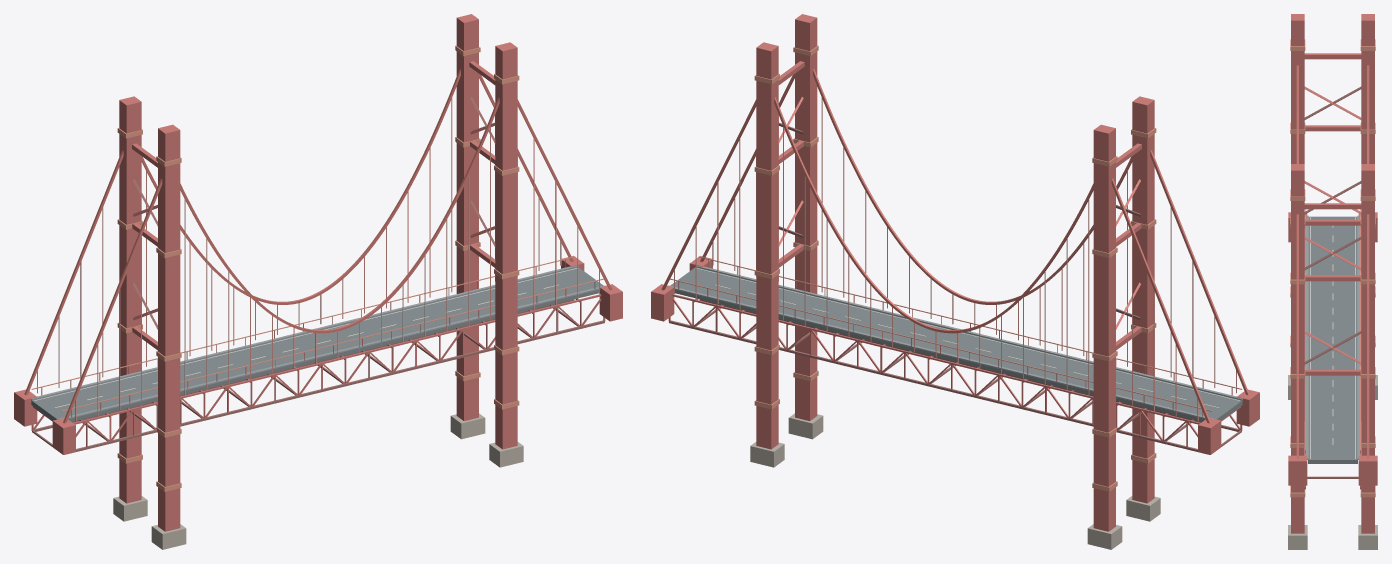
The model's file is 5-ponte-25-de-abril.glb.
The picture shows the model from 3 angles, left to right: view 1: azimuth 30°, elevation 25°; view 2: azimuth 150°, elevation 25°; view 3: azimuth 270°, elevation 25°; orthographic projection. The views are drawn at different scales.
Parts seen in each view (by area): view 1: vertical_red_bridge_main_shaft_steel_red, one_piece_paved_road_road_dark, main_cable_seated_in_both_end_anchors_steel_red, hangers_reconnected_to_modified_main_cable_steel_light, seated_edge_walkway_road_edge, grounded_red_tower_footing_masonry_dark, continuous_bottom_side_truss_chord_steel_shadow, integral_tower_stiffener_steel_light, anchored_red_cable_end_steel_red, connected_outer_road_guardrail_steel_light, seated_alternating_diagonal_truss_supports_steel_red, continuous_top_side_truss_chord_steel_red (+3 smaller); view 2: vertical_red_bridge_main_shaft_steel_red, one_piece_paved_road_road_dark, main_cable_seated_in_both_end_anchors_steel_red, hangers_reconnected_to_modified_main_cable_steel_light, seated_edge_walkway_road_edge, grounded_red_tower_footing_masonry_dark, continuous_bottom_side_truss_chord_steel_shadow, integral_tower_stiffener_steel_light, anchored_red_cable_end_steel_red, connected_outer_road_guardrail_steel_light, seated_alternating_diagonal_truss_supports_steel_red, continuous_top_side_truss_chord_steel_red (+3 smaller); view 3: vertical_red_bridge_main_shaft_steel_red, one_piece_paved_road_road_dark, portal_tower_transverse_beam_steel_red, main_cable_seated_in_both_end_anchors_steel_red, anchored_red_cable_end_steel_red, integral_tower_stiffener_steel_light, seated_edge_walkway_road_edge, grounded_red_tower_footing_masonry_dark, continuous_top_side_truss_chord_steel_red, tower_portal_cross_bracing_steel_shadow, tower_portal_cross_bracing_steel_red, seated_outer_white_edge_line_road_marking_white (+3 smaller).
Boxes of the visible parts, box(x1,y1,x2,y2) form: vertical_red_bridge_main_shaft_steel_red: box(119, 14, 517, 531); one_piece_paved_road_road_dark: box(31, 267, 603, 421); main_cable_seated_in_both_end_anchors_steel_red: box(24, 69, 612, 423); hangers_reconnected_to_modified_main_cable_steel_light: box(37, 98, 599, 421); seated_edge_walkway_road_edge: box(31, 265, 604, 419); grounded_red_tower_footing_masonry_dark: box(113, 413, 523, 549); continuous_bottom_side_truss_chord_steel_shadow: box(33, 299, 604, 454); integral_tower_stiffener_steel_light: box(117, 45, 519, 491); anchored_red_cable_end_steel_red: box(14, 256, 622, 454); connected_outer_road_guardrail_steel_light: box(31, 256, 603, 411); seated_alternating_diagonal_truss_supports_steel_red: box(33, 298, 601, 441); continuous_top_side_truss_chord_steel_red: box(73, 294, 601, 424); vertical_red_bridge_main_shaft_steel_red: box(756, 14, 1154, 531); one_piece_paved_road_road_dark: box(670, 267, 1242, 421); main_cable_seated_in_both_end_anchors_steel_red: box(661, 69, 1249, 423); hangers_reconnected_to_modified_main_cable_steel_light: box(674, 98, 1236, 421); seated_edge_walkway_road_edge: box(669, 265, 1242, 419); grounded_red_tower_footing_masonry_dark: box(750, 413, 1160, 549); continuous_bottom_side_truss_chord_steel_shadow: box(669, 299, 1240, 454); integral_tower_stiffener_steel_light: box(754, 45, 1156, 491); anchored_red_cable_end_steel_red: box(651, 256, 1259, 454); connected_outer_road_guardrail_steel_light: box(670, 256, 1242, 411); seated_alternating_diagonal_truss_supports_steel_red: box(672, 298, 1240, 441); continuous_top_side_truss_chord_steel_red: box(672, 294, 1200, 424); vertical_red_bridge_main_shaft_steel_red: box(1291, 14, 1374, 533); one_piece_paved_road_road_dark: box(1308, 216, 1357, 463); portal_tower_transverse_beam_steel_red: box(1304, 53, 1361, 375); main_cable_seated_in_both_end_anchors_steel_red: box(1296, 65, 1369, 458); anchored_red_cable_end_steel_red: box(1288, 212, 1377, 485); integral_tower_stiffener_steel_light: box(1290, 39, 1375, 497); seated_edge_walkway_road_edge: box(1305, 215, 1360, 459); grounded_red_tower_footing_masonry_dark: box(1288, 375, 1377, 549); continuous_top_side_truss_chord_steel_red: box(1304, 228, 1361, 455); tower_portal_cross_bracing_steel_shadow: box(1304, 86, 1361, 364); tower_portal_cross_bracing_steel_red: box(1304, 86, 1361, 364); seated_outer_white_edge_line_road_marking_white: box(1310, 217, 1355, 459).
Bounding box in the file's own units: 96.2 × 68 × 14.7.
